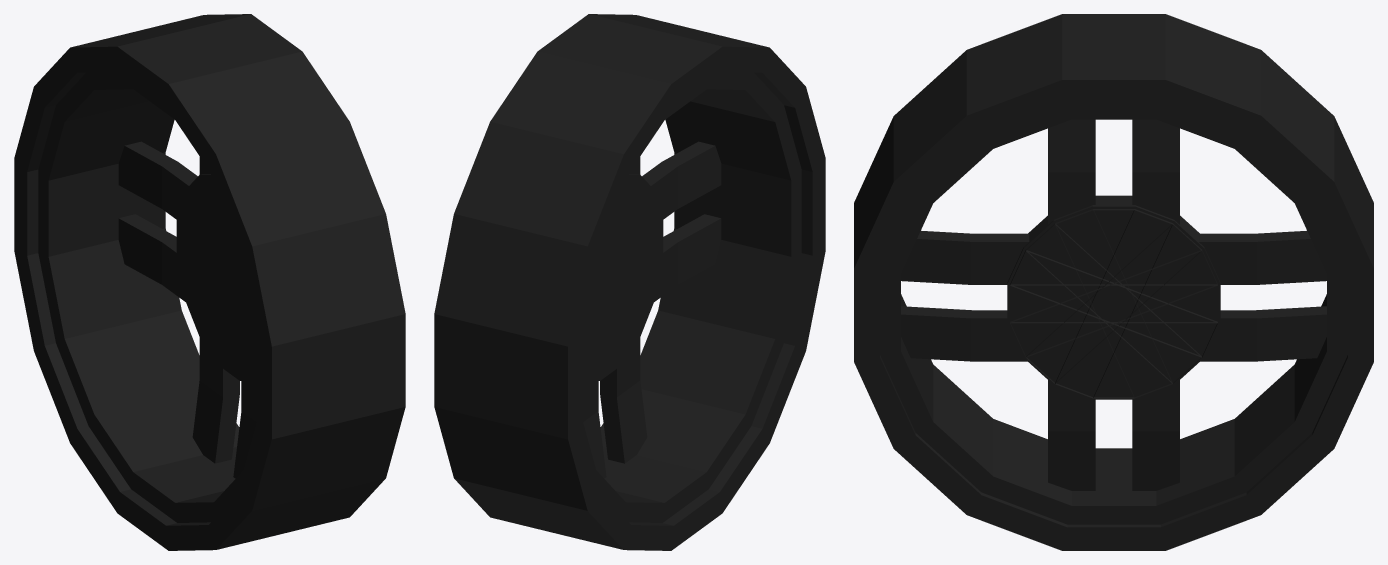
Rendered from rim_4spoke.obj.
The picture shows the model from 3 angles, left to right: view 1: azimuth 30°, elevation 25°; view 2: azimuth 150°, elevation 25°; view 3: azimuth 270°, elevation 25°; orthographic projection.
Parts seen in each view (by area): view 1: rim; view 2: rim; view 3: rim.
Boxes of the visible parts, bbox=[...] form: rim: bbox=[14, 14, 405, 550]; rim: bbox=[434, 14, 825, 550]; rim: bbox=[854, 14, 1373, 550].
Size of the model in its own units: 0.1875 by 0.625 by 0.625.
